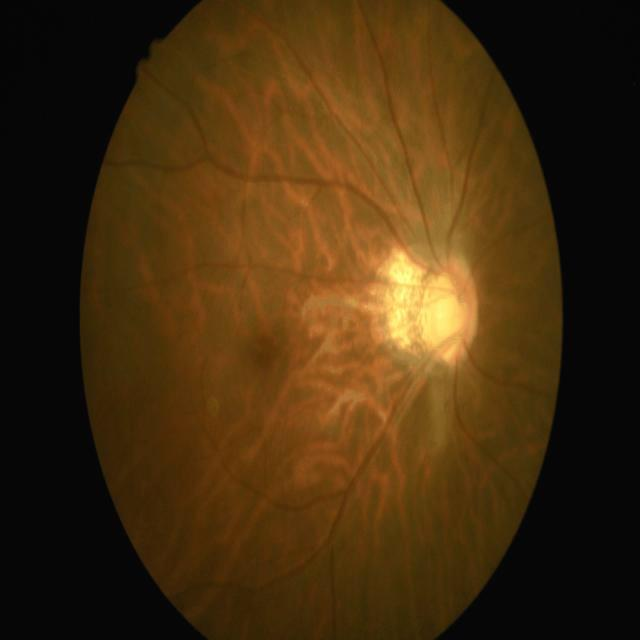cup: (434, 274, 471, 364)
disk: (424, 254, 480, 372)
